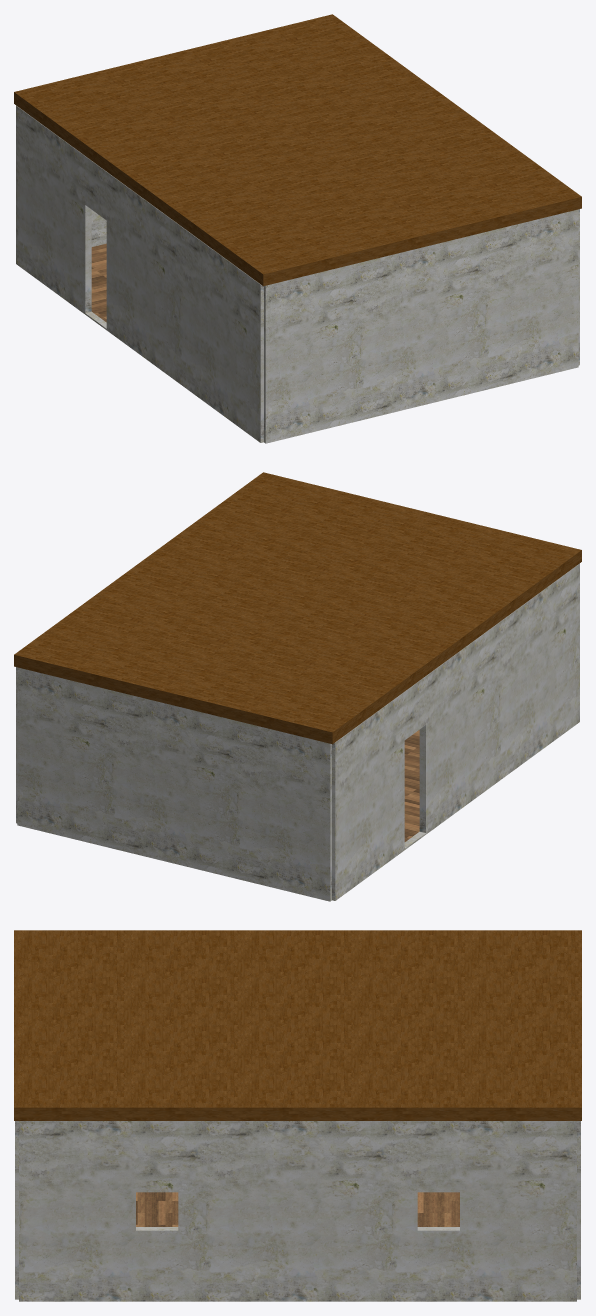
The model's file is dinning room.glb.
The picture shows the model from 3 angles, top to bottom: view 1: azimuth 30°, elevation 25°; view 2: azimuth 150°, elevation 25°; view 3: azimuth 270°, elevation 25°; orthographic projection. The views are drawn at different scales.
Visible parts, largest first — view 1: Roof_Flat, Wall_3, Wall_2, Floor; view 2: Roof_Flat, Wall_1, Wall_2, Floor; view 3: Roof_Flat, Wall_4, Floor, Wall_1, Wall_3.
Boxes of the visible parts, x1,y1,x2,y2 form: Roof_Flat: [14, 14, 581, 286]; Wall_3: [264, 209, 578, 443]; Wall_2: [16, 105, 263, 442]; Floor: [91, 243, 106, 322]; Roof_Flat: [14, 472, 581, 744]; Wall_1: [17, 667, 331, 901]; Wall_2: [332, 563, 579, 900]; Floor: [404, 730, 419, 841]; Roof_Flat: [14, 930, 581, 1120]; Wall_4: [19, 1121, 576, 1301]; Floor: [136, 1192, 459, 1226]; Wall_1: [577, 1121, 580, 1299]; Wall_3: [15, 1121, 18, 1299].
Bounding box in the file's own units: 9.94 × 5.06 × 13.44.
Materials: 3 (3 with a texture image).
